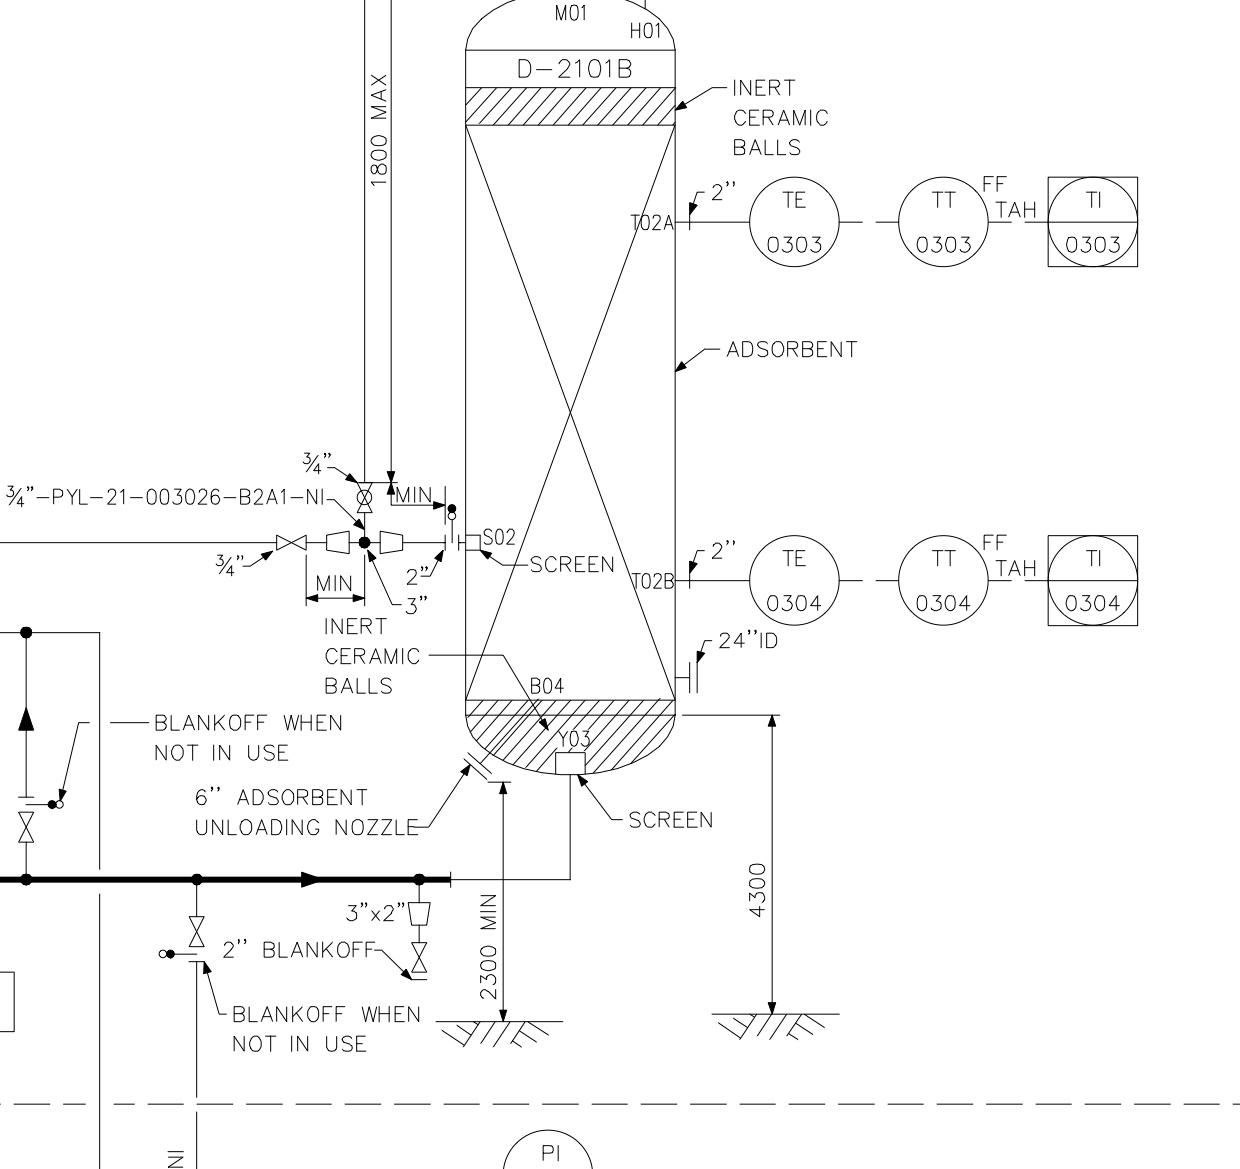Intrument Tag: (744, 170, 847, 272), (742, 531, 846, 633), (894, 531, 997, 633), (1042, 528, 1146, 631), (1040, 171, 1143, 272), (894, 171, 997, 272)
Line Number: (2, 481, 328, 513)
Reducer: (403, 893, 434, 932), (321, 526, 356, 559), (375, 526, 409, 559)
Spetacle Blind: (154, 942, 210, 969), (16, 791, 64, 819), (443, 502, 462, 552)
Valve: (273, 531, 314, 555), (405, 940, 434, 975)
